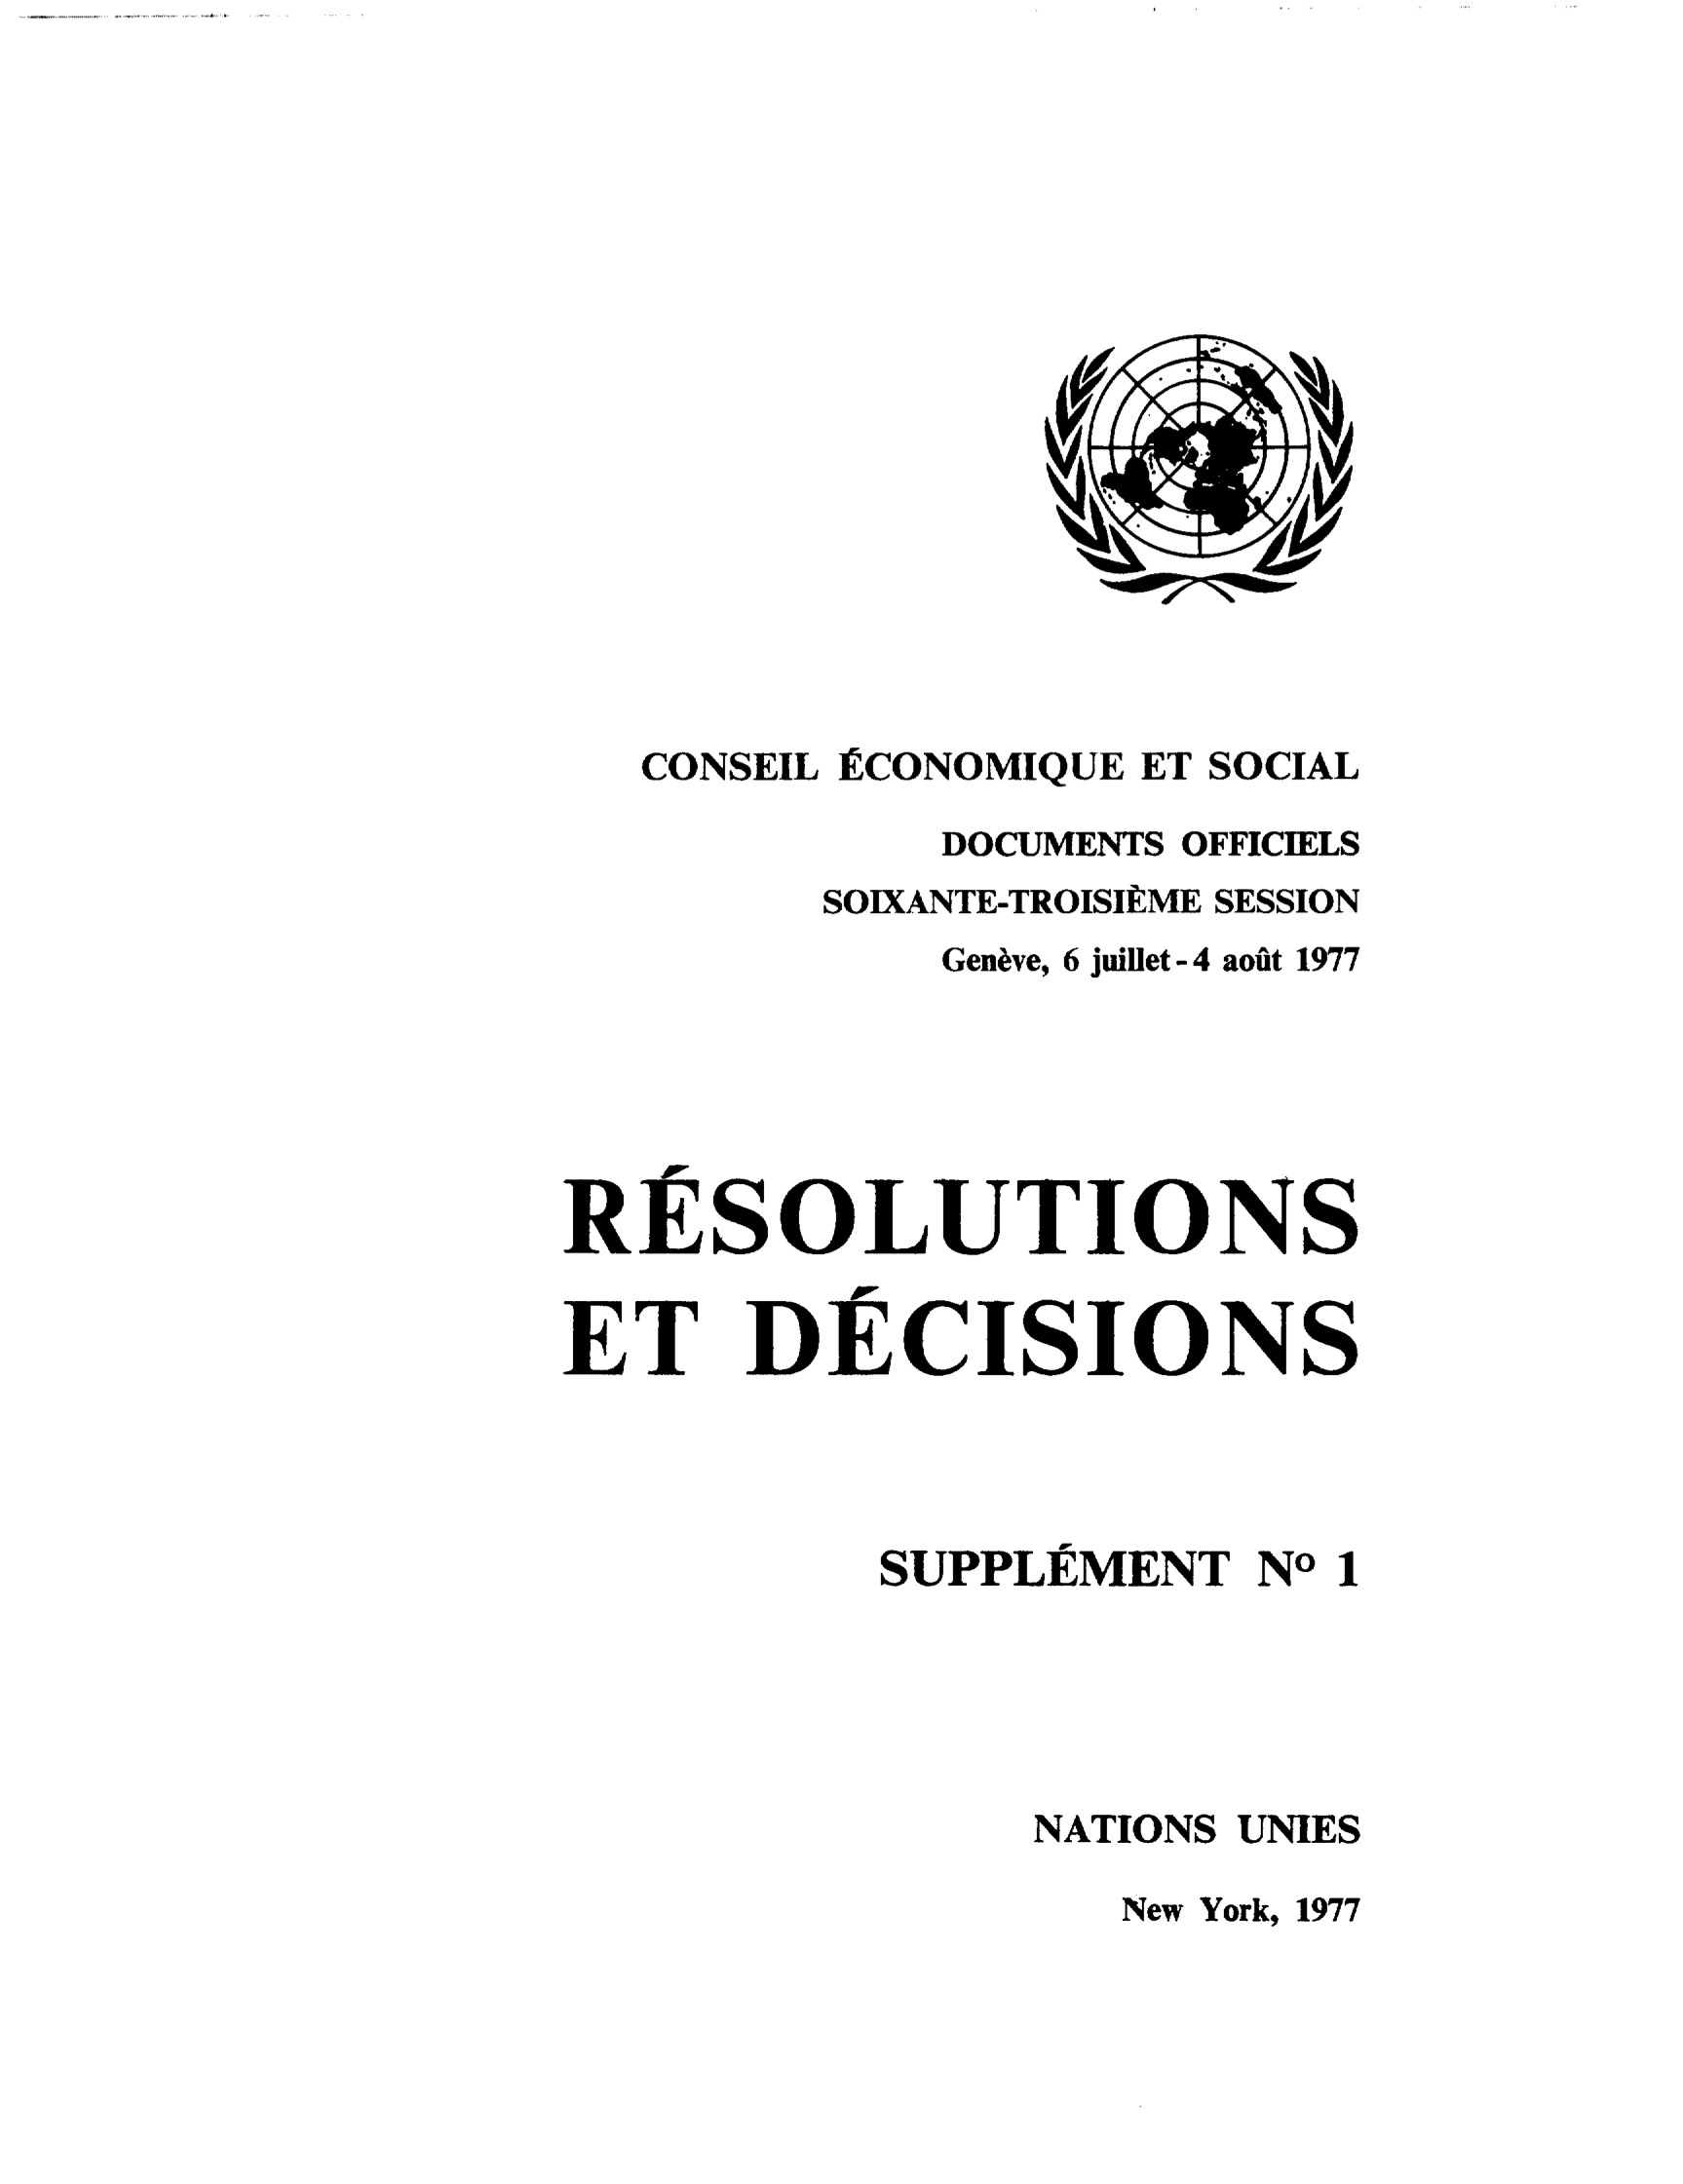GraphicZone-Decoration: (1025, 322, 1386, 621)
TitlePageZone: (325, 281, 1443, 2147)
